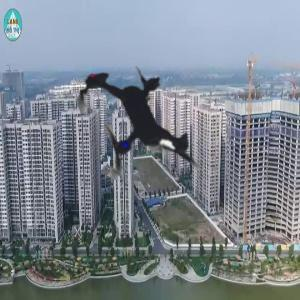drone: (27, 17, 243, 233)
